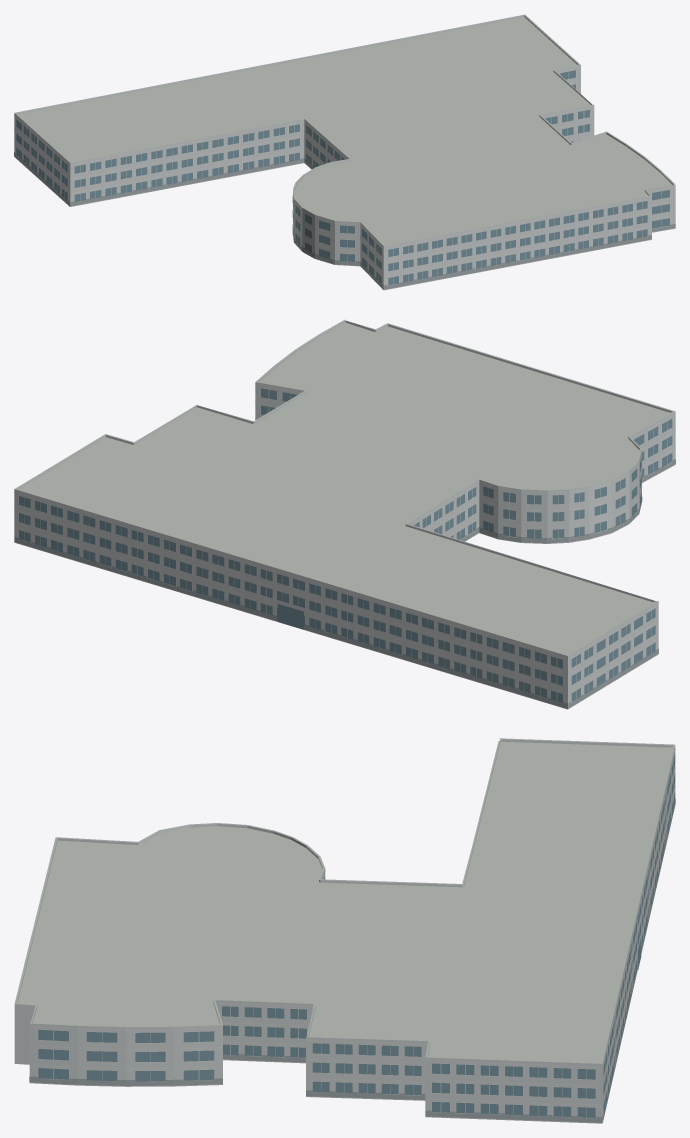
The model's file is public-8df6baff-7f16-4879-92b7-94dffd41bd3d.glb.
3 views of the same model, one above another, from view 1: azimuth 30°, elevation 25°; view 2: azimuth 150°, elevation 25°; view 3: azimuth 270°, elevation 25° (orthographic). The views are drawn at different scales.
Visible parts, largest first — view 1: public-8df6baff-7f16-4879-92b7-94dffd41bd3d; view 2: public-8df6baff-7f16-4879-92b7-94dffd41bd3d; view 3: public-8df6baff-7f16-4879-92b7-94dffd41bd3d.
Part boxes in pixels (x1,y1,x2,y2): public-8df6baff-7f16-4879-92b7-94dffd41bd3d: (14,14,675,290); public-8df6baff-7f16-4879-92b7-94dffd41bd3d: (14,319,675,709); public-8df6baff-7f16-4879-92b7-94dffd41bd3d: (14,738,675,1123).
Size of the model in its own units: 107 by 9.15 by 91.84.
